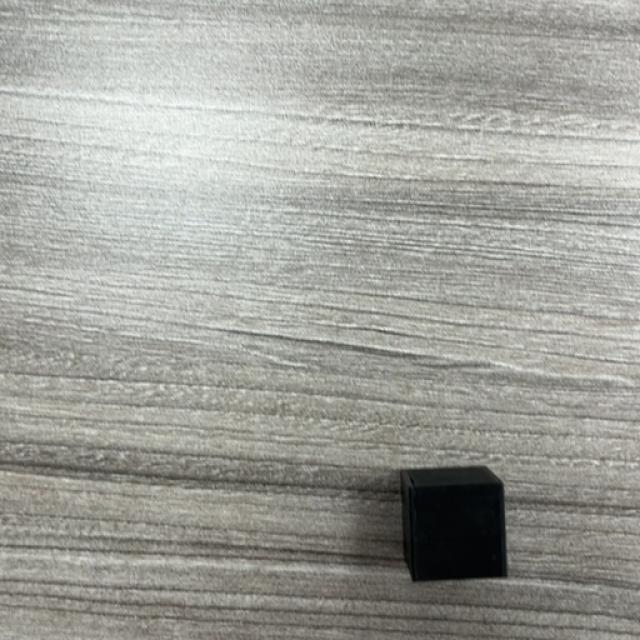Negro: (400, 466, 509, 584)
